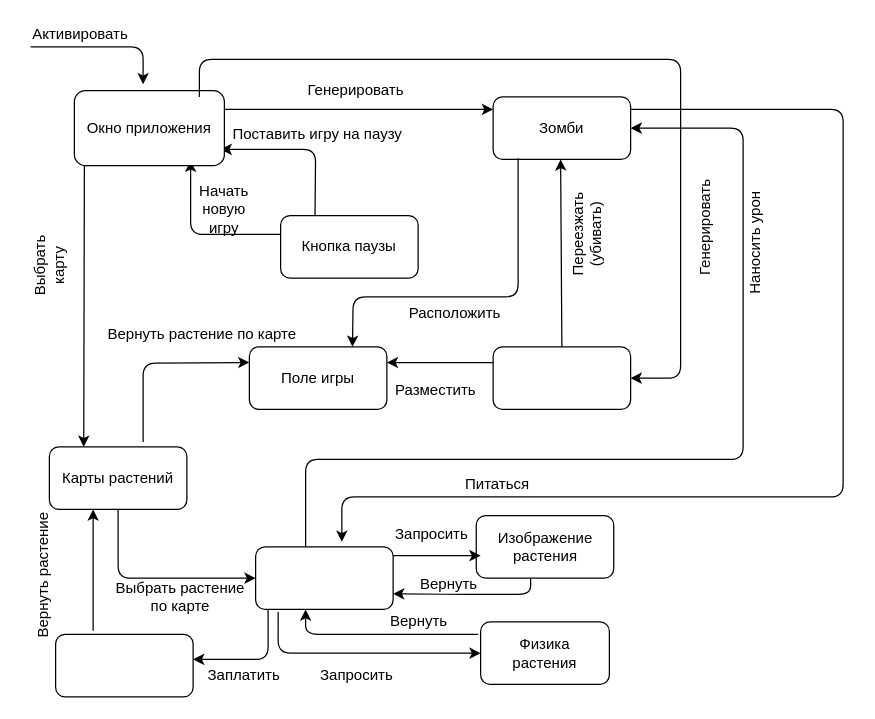
Image size: 875x719. Some labels were removed from this diagram. The shapes that lost their labels are listed below. From the top down, each one's centre as x and y in pixels, then its label:
pixel 561 377: Тележки
pixel 323 577: Растения
pixel 123 665: Финансы
